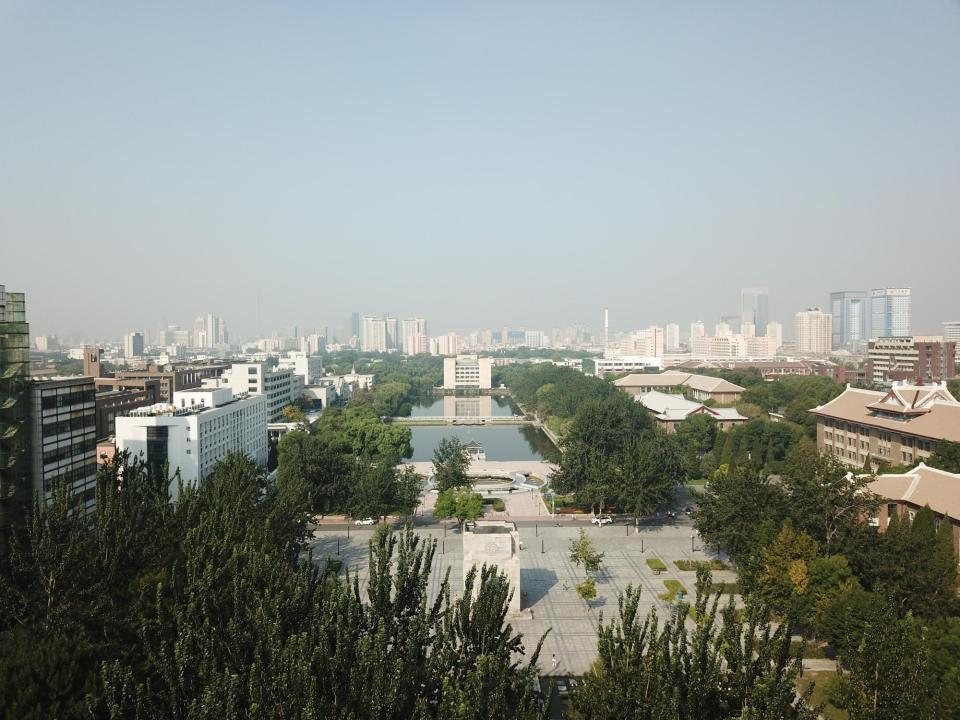car: (355, 517, 374, 526), (591, 516, 612, 524), (686, 506, 694, 517)
